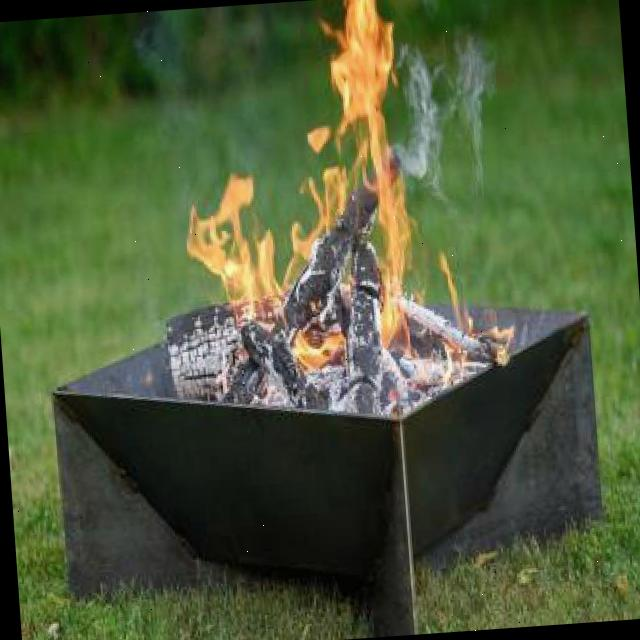fire: (169, 4, 424, 389), (398, 15, 507, 212)
